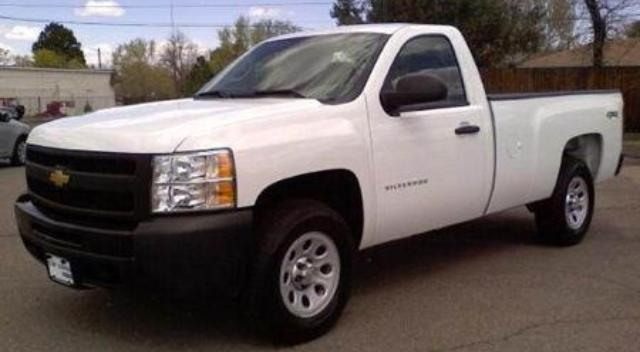pickup-truck: (14, 21, 626, 337)
